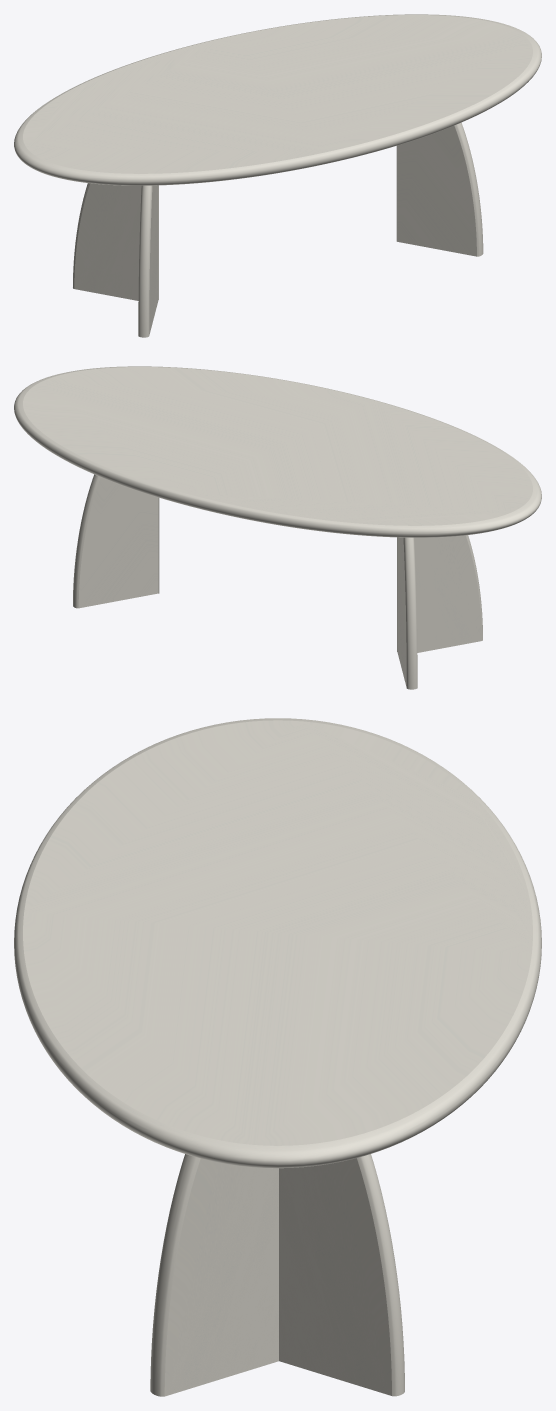
Rendered from pale_ellips_round_newtable2.glb.
3 renders of one model, top to bottom at view 1: azimuth 30°, elevation 25°; view 2: azimuth 150°, elevation 25°; view 3: azimuth 270°, elevation 25°, orthographic. The views are drawn at different scales.
Visible parts, largest first — view 1: round_ellips, newtable2_singleright2, newtable2_singleleft1, newtable2_singleright1; view 2: round_ellips, newtable2_singleleft2, newtable2_singleright1, newtable2_singleleft1; view 3: round_ellips, newtable2_singleright2, newtable2_singleleft2.
Boxes of the visible parts, x1=… form: round_ellips: x1=14, y1=14, x2=541, y2=185; newtable2_singleright2: x1=396, y1=122, x2=483, y2=256; newtable2_singleleft1: x1=73, y1=183, x2=158, y2=300; newtable2_singleright1: x1=138, y1=185, x2=158, y2=337; round_ellips: x1=14, y1=366, x2=541, y2=537; newtable2_singleleft2: x1=73, y1=474, x2=158, y2=608; newtable2_singleright1: x1=397, y1=535, x2=482, y2=652; newtable2_singleleft1: x1=397, y1=537, x2=417, y2=689; round_ellips: x1=14, y1=718, x2=541, y2=1168; newtable2_singleright2: x1=150, y1=1154, x2=278, y2=1396; newtable2_singleleft2: x1=279, y1=1154, x2=404, y2=1396.
Bounding box in the file's own units: 7.5 × 2.49 × 3.8.
1 material, 1 textured.
